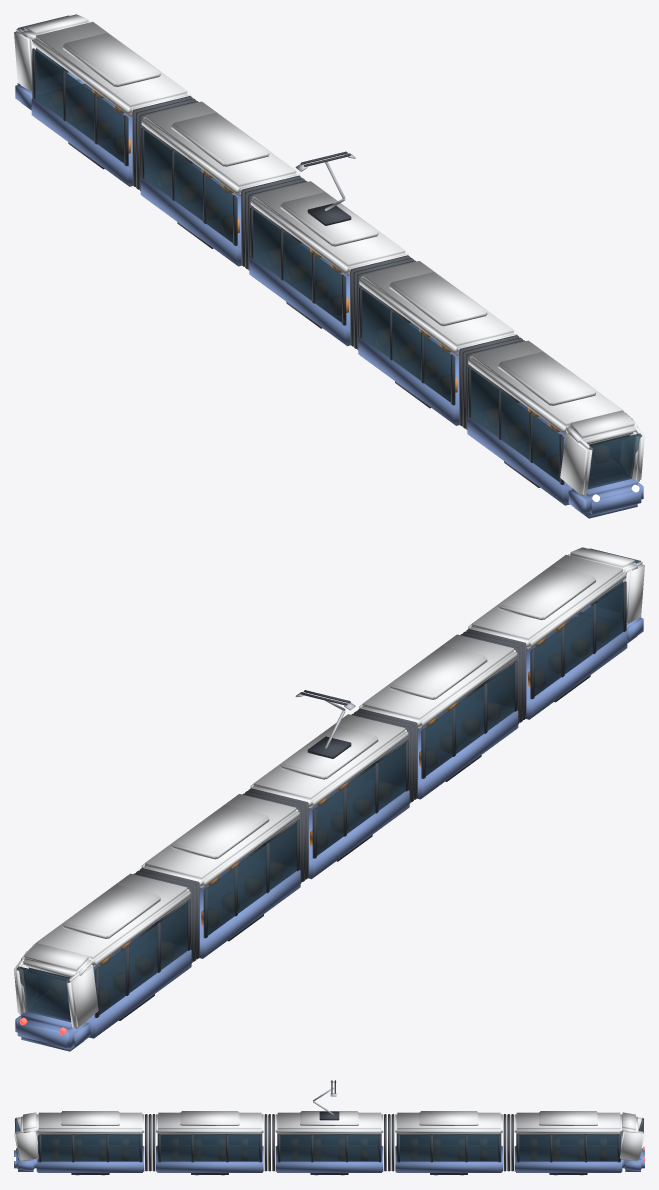
File: tpg_tram.glb
The picture shows the model from 3 angles, top to bottom: view 1: azimuth 30°, elevation 25°; view 2: azimuth 150°, elevation 25°; view 3: azimuth 270°, elevation 25°; orthographic projection. The views are drawn at different scales.
Parts seen in each view (by area): view 1: tram_glass_l_-1, tram_glass_l_0, tram_glass_l_2, tram_glass_l_1, tram_glass_l_-2, tram_roof_1, tram_roof_2, tram_roof_-1, tram_roof_0, tram_roof_-2, tram_hvac_-1, tram_hvac_1 (+14 smaller); view 2: tram_glass_l_1, tram_glass_l_0, tram_glass_l_-2, tram_glass_l_-1, tram_glass_l_2, tram_roof_-1, tram_roof_-2, tram_roof_1, tram_roof_0, tram_roof_2, tram_hvac_1, tram_hvac_-1 (+14 smaller); view 3: tram_glass_r_1, tram_glass_r_-1, tram_glass_r_0, tram_glass_r_2, tram_glass_r_-2, tram_roof_0, tram_roof_1, tram_roof_-1, tram_roof_2, tram_roof_-2, tram_skirt_0, tram_skirt_2 (+32 smaller).
Boxes of the visible parts, bbox=[...] form: tram_glass_l_-1: bbox=[359, 287, 455, 404]; tram_glass_l_0: bbox=[250, 208, 346, 325]; tram_glass_l_2: bbox=[35, 50, 128, 165]; tram_glass_l_1: bbox=[144, 130, 237, 245]; tram_glass_l_-2: bbox=[468, 367, 564, 484]; tram_roof_1: bbox=[141, 101, 299, 196]; tram_roof_2: bbox=[32, 22, 190, 116]; tram_roof_-1: bbox=[359, 261, 517, 355]; tram_roof_0: bbox=[250, 181, 408, 275]; tram_roof_-2: bbox=[468, 340, 626, 434]; tram_hvac_-1: bbox=[389, 272, 487, 326]; tram_hvac_1: bbox=[171, 112, 269, 166]; tram_glass_l_1: bbox=[203, 820, 299, 937]; tram_glass_l_0: bbox=[312, 741, 408, 858]; tram_glass_l_-2: bbox=[530, 583, 623, 698]; tram_glass_l_-1: bbox=[421, 663, 514, 778]; tram_glass_l_2: bbox=[94, 900, 190, 1017]; tram_roof_-1: bbox=[359, 634, 517, 729]; tram_roof_-2: bbox=[468, 555, 626, 649]; tram_roof_1: bbox=[141, 794, 299, 888]; tram_roof_0: bbox=[250, 714, 408, 808]; tram_roof_2: bbox=[32, 873, 190, 967]; tram_hvac_1: bbox=[171, 805, 269, 859]; tram_hvac_-1: bbox=[389, 645, 487, 699]; tram_glass_r_1: bbox=[396, 1135, 501, 1161]; tram_glass_r_-1: bbox=[157, 1135, 262, 1161]; tram_glass_r_0: bbox=[277, 1135, 381, 1161]; tram_glass_r_2: bbox=[516, 1135, 620, 1161]; tram_glass_r_-2: bbox=[38, 1135, 142, 1161]; tram_roof_0: bbox=[275, 1112, 383, 1134]; tram_roof_1: bbox=[395, 1112, 502, 1134]; tram_roof_-1: bbox=[156, 1112, 263, 1134]; tram_roof_2: bbox=[514, 1112, 622, 1134]; tram_roof_-2: bbox=[36, 1112, 144, 1134]; tram_skirt_0: bbox=[275, 1145, 383, 1172]; tram_skirt_2: bbox=[514, 1145, 622, 1172].
Bounding box in the file's own units: 2.48 × 5.29 × 36.32.
